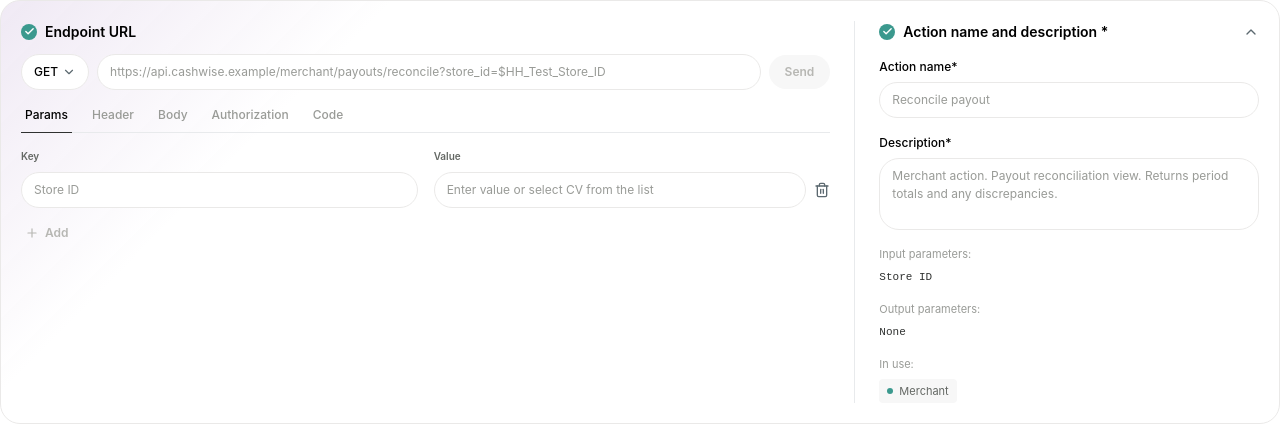
Test: ToolRequestCard › switches to an empty placeholder tab when clicked
Step 1. Click the tab "Header" → point(113, 119), box [88,106,138,132]
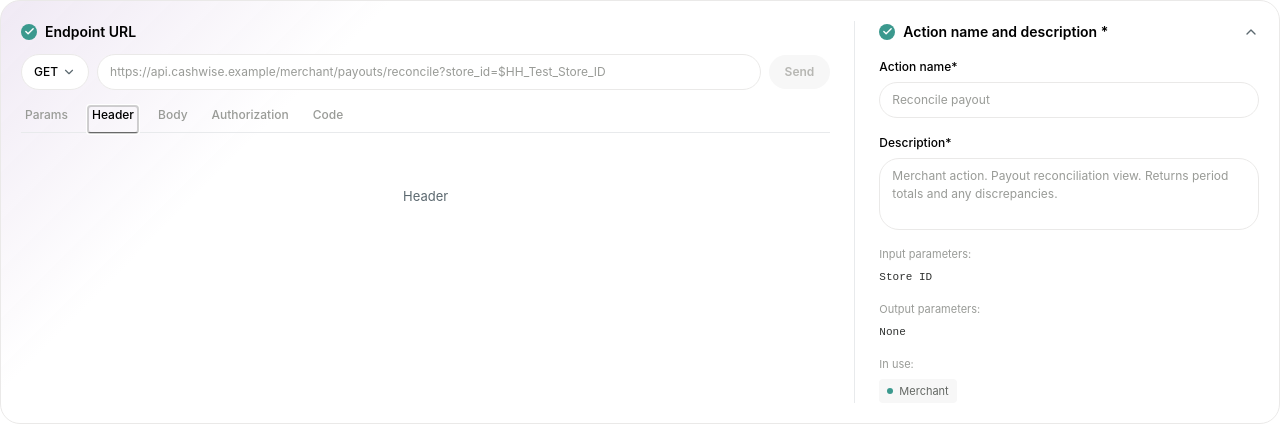
Expected: the text "Enter value or select CV from the list" is gone
Expected: the text "Header" is shown, [403,188,448,204]
